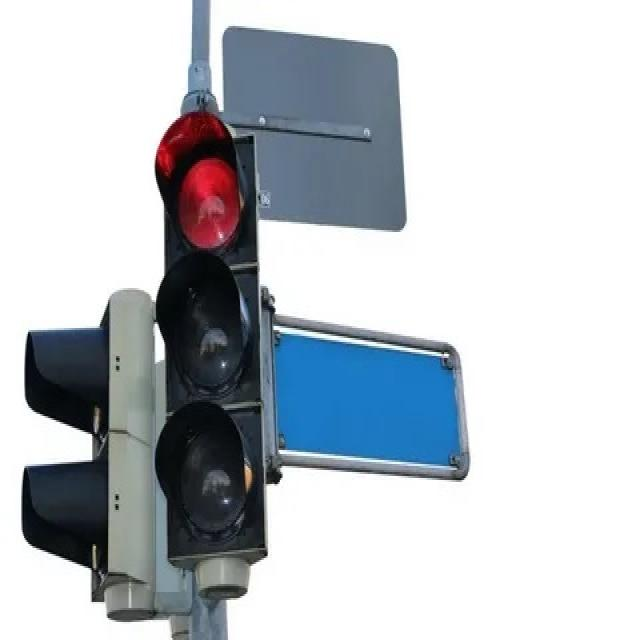kirmizi: (153, 110, 267, 559)
